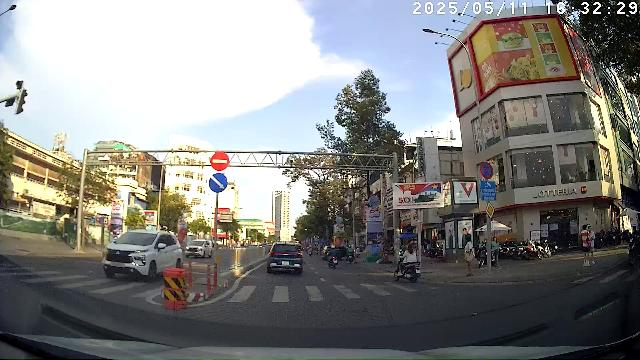102-cam-di-nguoc-chieu: (210, 152, 230, 171)
130-cam-dung-va-do-xe: (479, 161, 494, 179)
302a-huong-phai-di-vong-chuong-ngai-vat-1: (208, 173, 229, 193)
